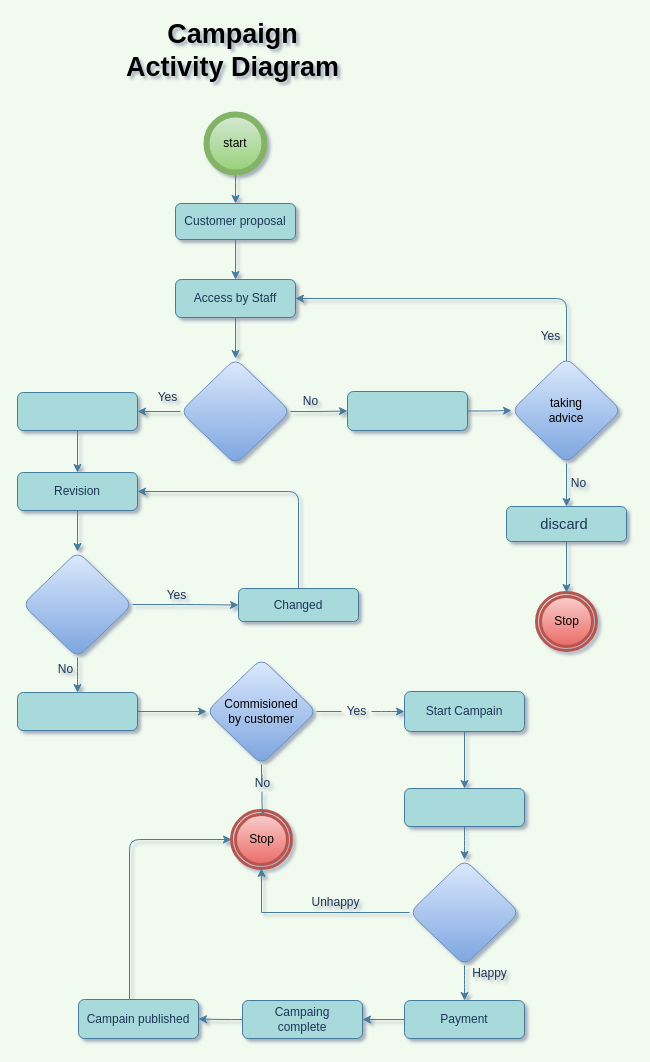
Image size: 650x1062. Some labels were removed from this diagram. The shapes that lost their labels are listed below. From the top down, each one's centre as x and y in pixels, then its label:
At [77,411]: "Selected campain".
At [235,411]: "Satisfied".
At [407,410]: "Advice against".
At [77,604]: "Want to change?".
At [77,711]: "Approved".
At [464,807]: "Campain underway".
At [464,912]: "Happy/unhappy".
